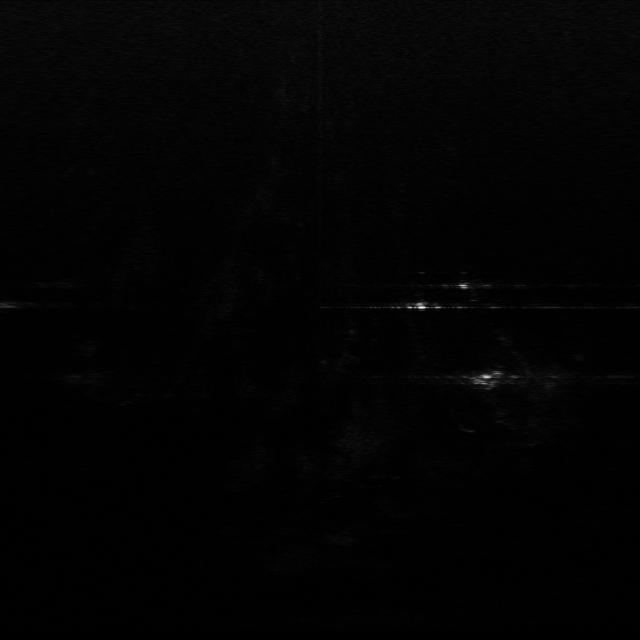rov: (468, 367, 514, 393)
